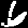b: (0, 0, 28, 28)
